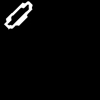chain: (5, 2, 31, 27)
